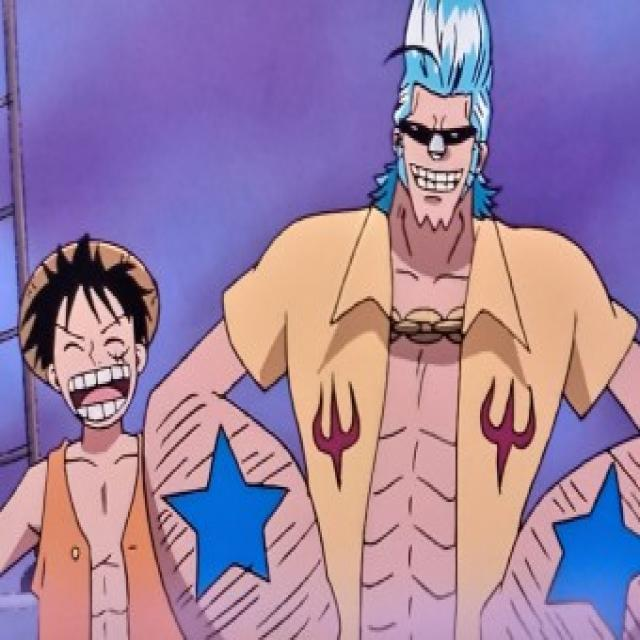Franky: (382, 0, 505, 246)
Luffy: (20, 225, 176, 426)
